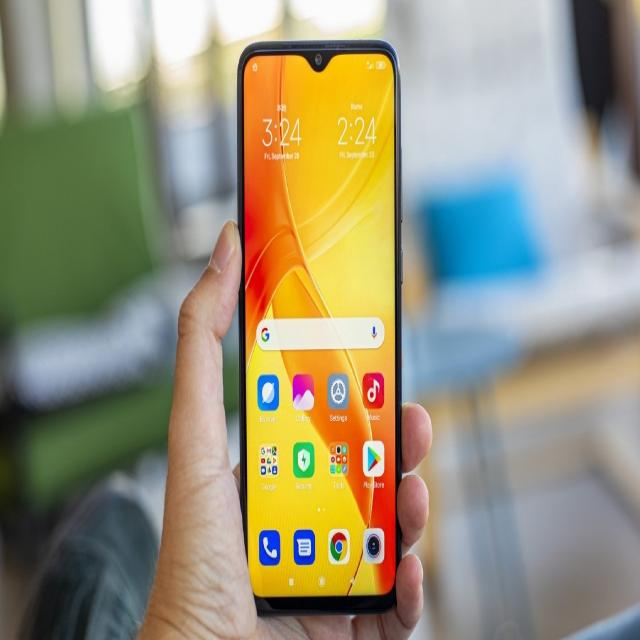Red Mi Note 8 Pro: (234, 39, 410, 621)
